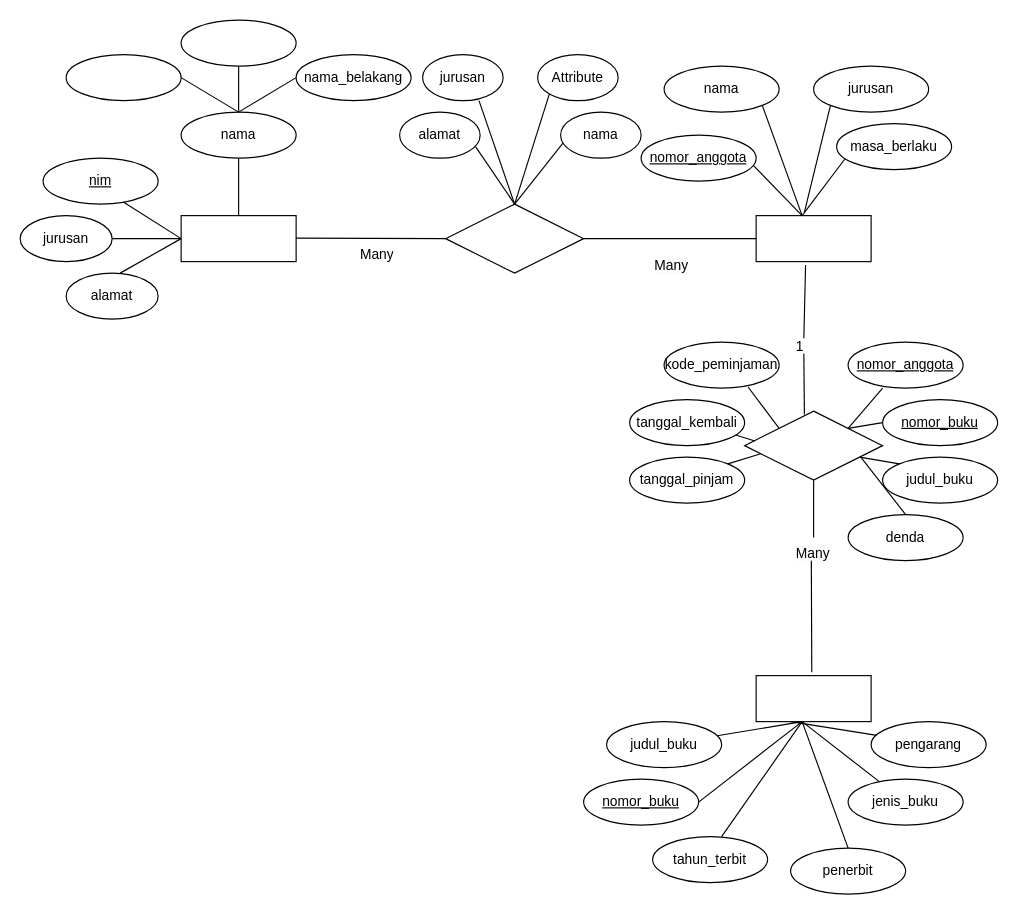
Image size: 1018x914. Some labels were removed from this diagram. The box of each missing label's shape, as (x1, y1, x2, y2) in pixels:
Anggota Perpustakaan: (755, 214, 871, 262)
Buku: (755, 674, 871, 722)
Mahasiswa: (180, 214, 296, 262)
Meminjam: (743, 410, 883, 480)
Mendaftar: (444, 203, 584, 273)
nama_depan: (65, 53, 181, 101)
nama_tengah: (180, 19, 296, 66)
